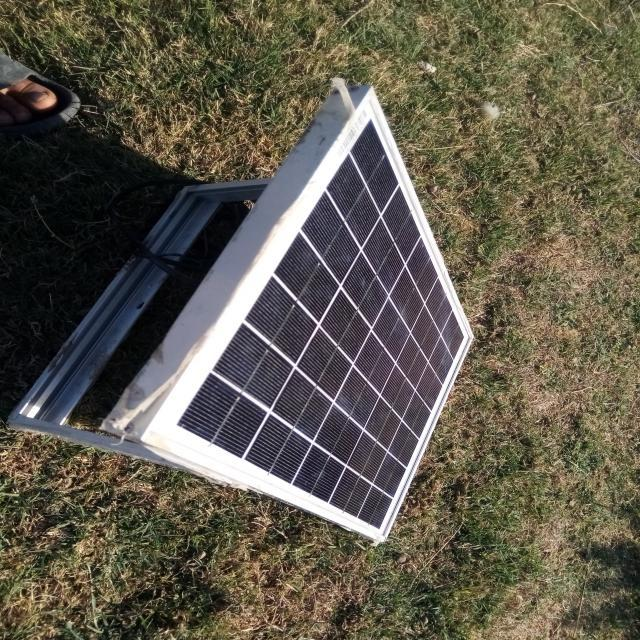no faulty: (142, 88, 474, 542)
